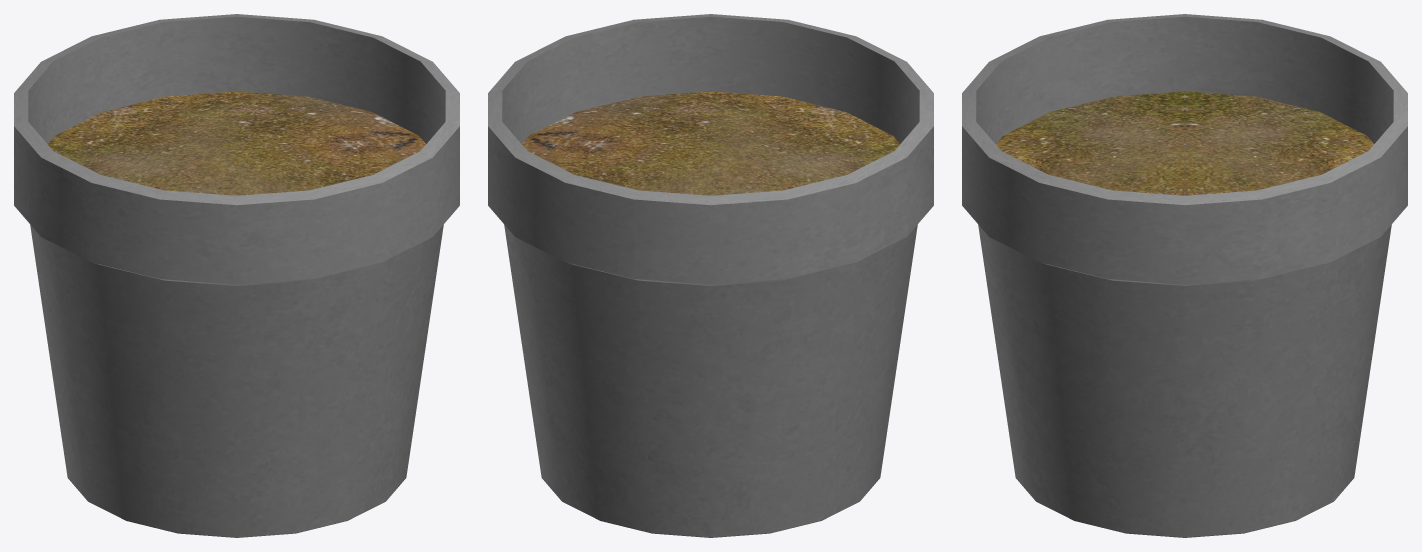
File: SM_Flower_Pot_01.glb
3 views of the same model, side by side, from view 1: azimuth 30°, elevation 25°; view 2: azimuth 150°, elevation 25°; view 3: azimuth 270°, elevation 25° (orthographic).
Visible parts, largest first — view 1: SM_Flower_Pot_01; view 2: SM_Flower_Pot_01; view 3: SM_Flower_Pot_01.
Part boxes in pixels (<box>): SM_Flower_Pot_01: <box>14,14,459,537</box>; SM_Flower_Pot_01: <box>488,14,933,537</box>; SM_Flower_Pot_01: <box>962,14,1407,537</box>.
Bounding box in the file's own units: 0.4785 × 0.4189 × 0.4712.
Materials: 1 (1 with a texture image).
